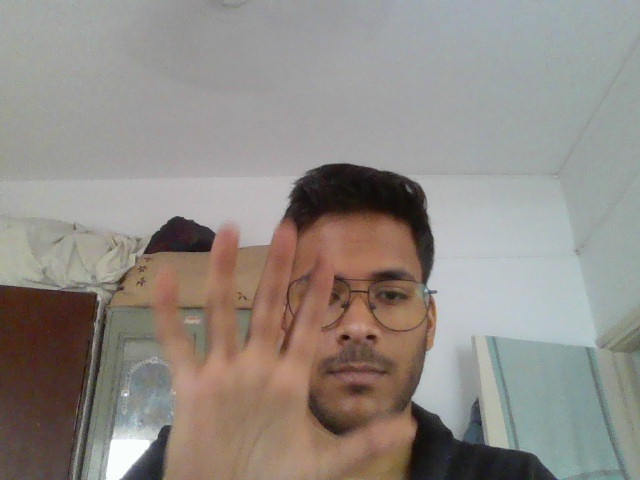hello: (125, 215, 412, 473)
